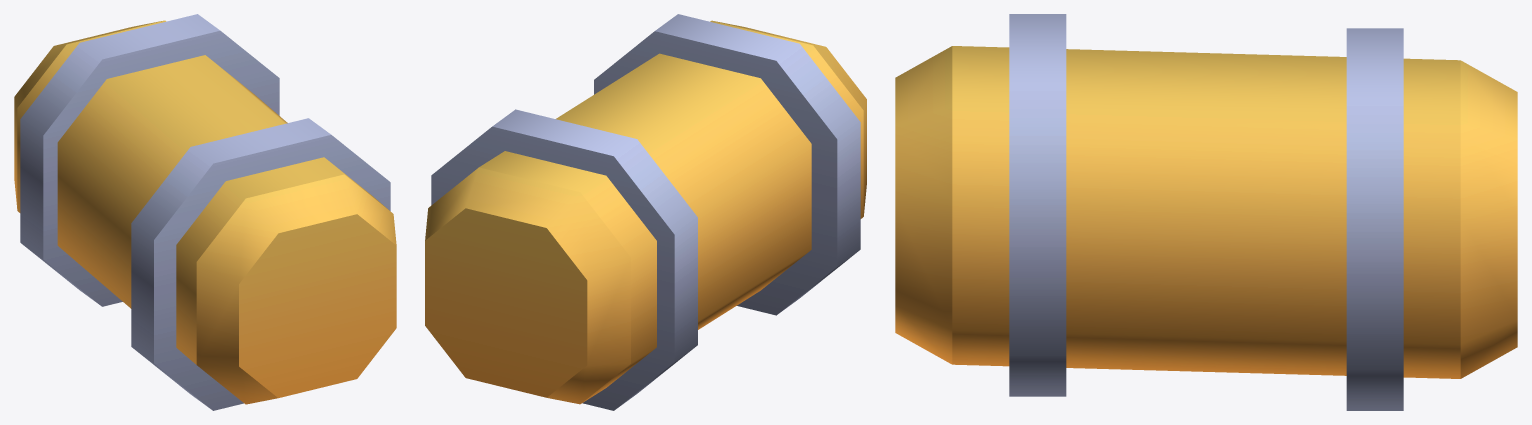
The model's file is station-container.glb.
3 renders of one model, left to right at view 1: azimuth 30°, elevation 25°; view 2: azimuth 150°, elevation 25°; view 3: azimuth 270°, elevation 25°, orthographic. The views are drawn at different scales.
Visible parts, largest first — view 1: container-flat; view 2: container-flat; view 3: container-flat.
Boxes of the visible parts, left/top/right/bottom form: container-flat: left=14, top=14, right=396, bottom=410; container-flat: left=425, top=14, right=866, bottom=410; container-flat: left=895, top=14, right=1517, bottom=410.
Size of the model in its own units: 0.6596 by 0.6 by 1.09.
1 material, 1 textured.
